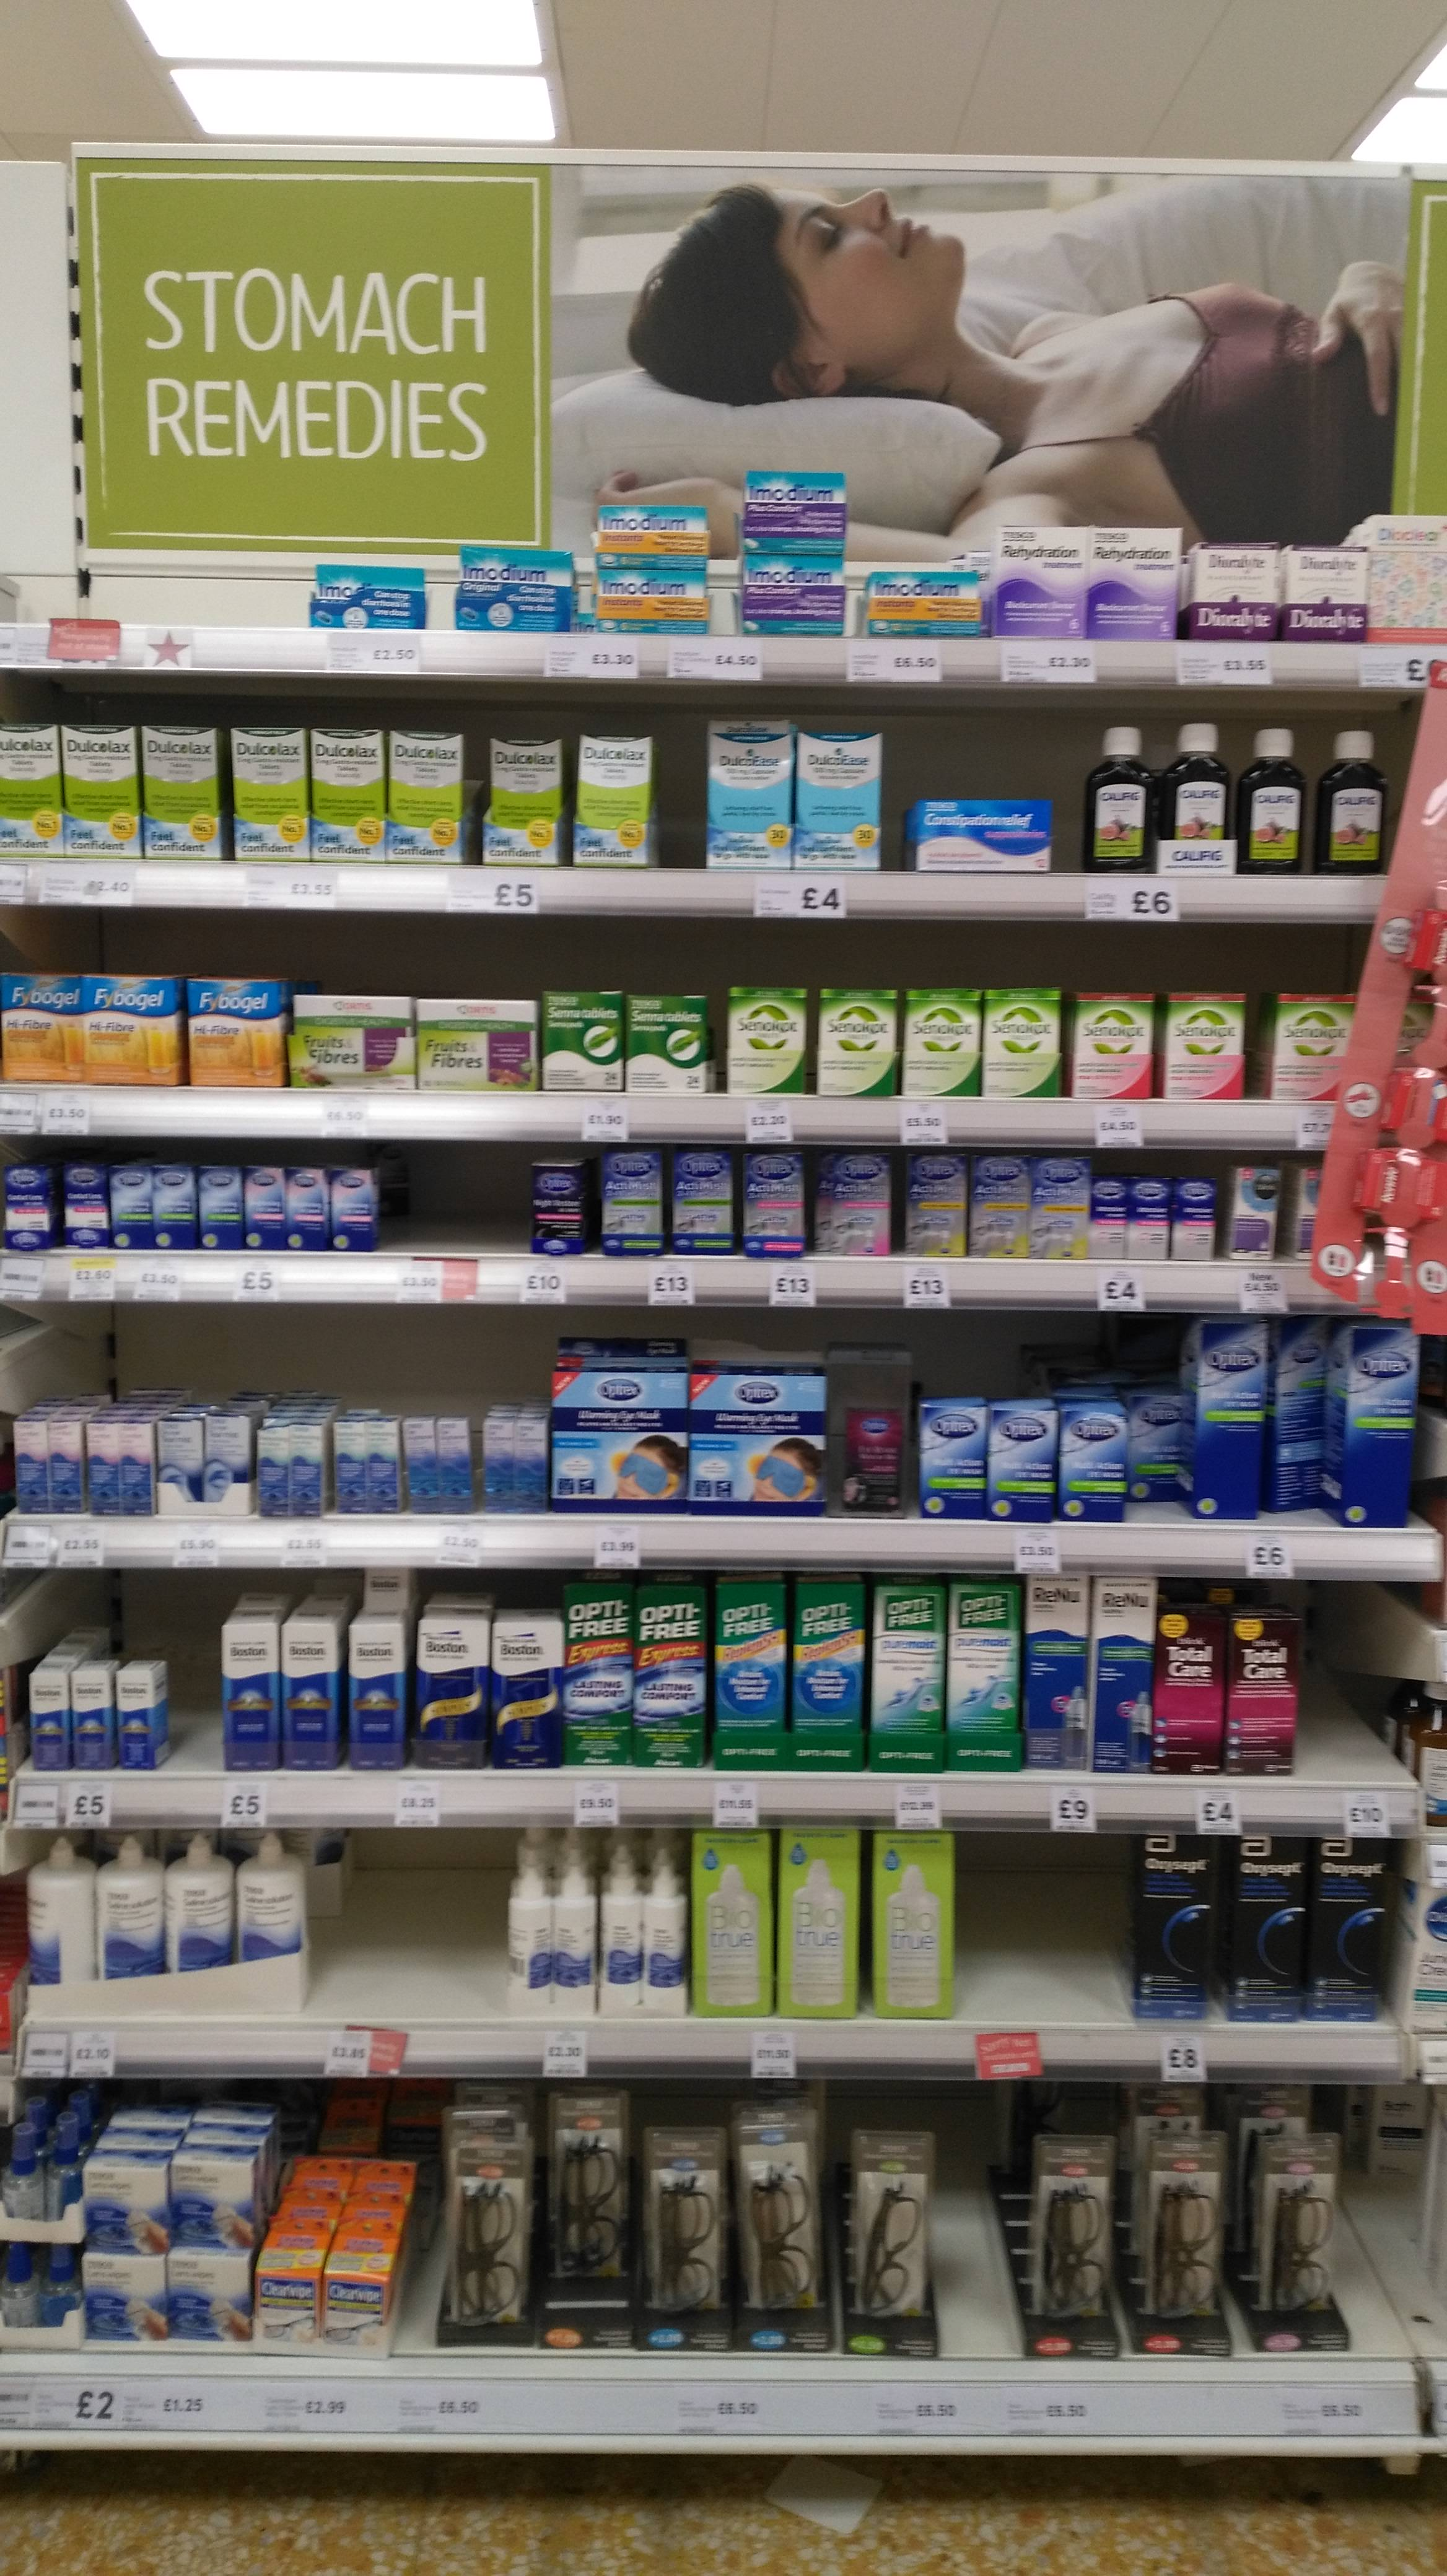Misplacement: (1123, 1378, 1191, 1523)
Out-of-stock: (964, 1836, 1130, 2026)
